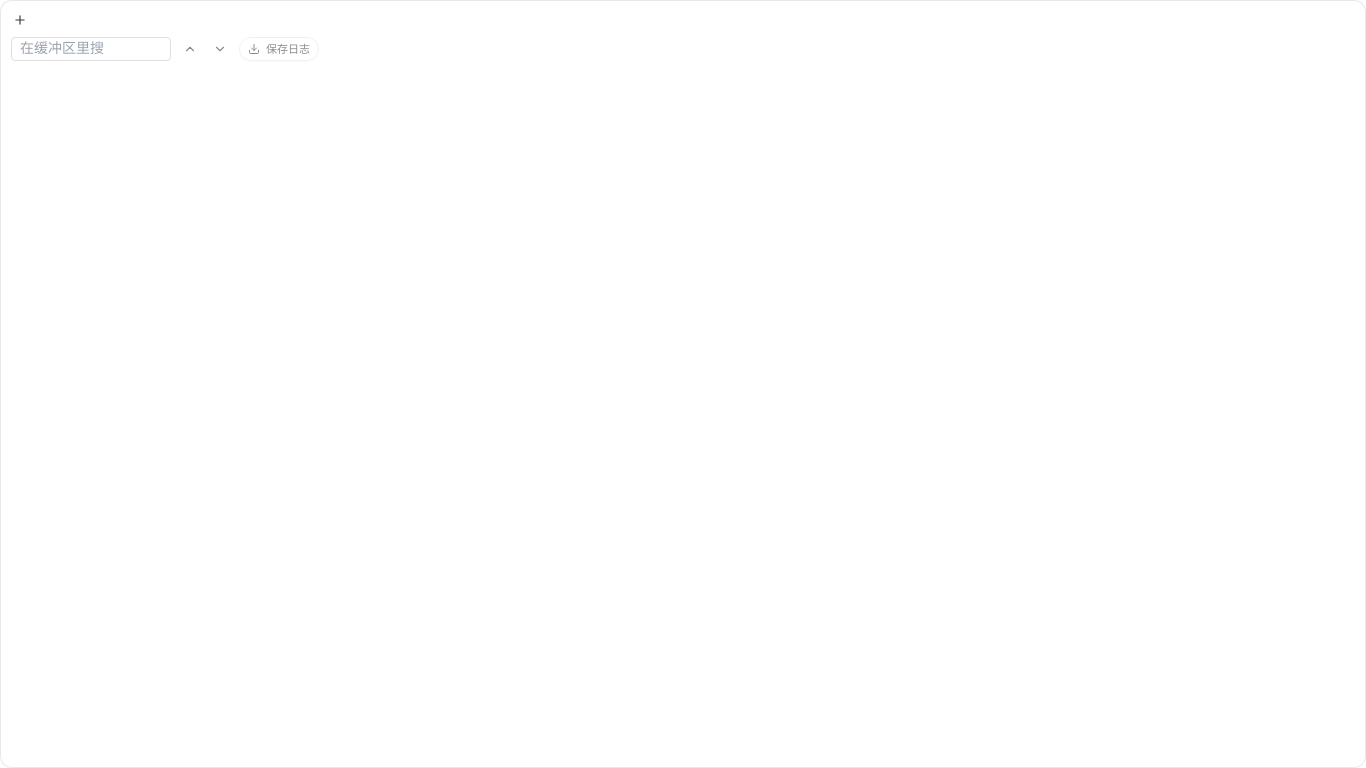
it: 真终端页（FT1 分页） › 保存这块屏：写出去的是纯文本，报的是回读到的字节数
Click the button with test id "terminal-new".
click(20, 20)  # box [11,11,29,29]
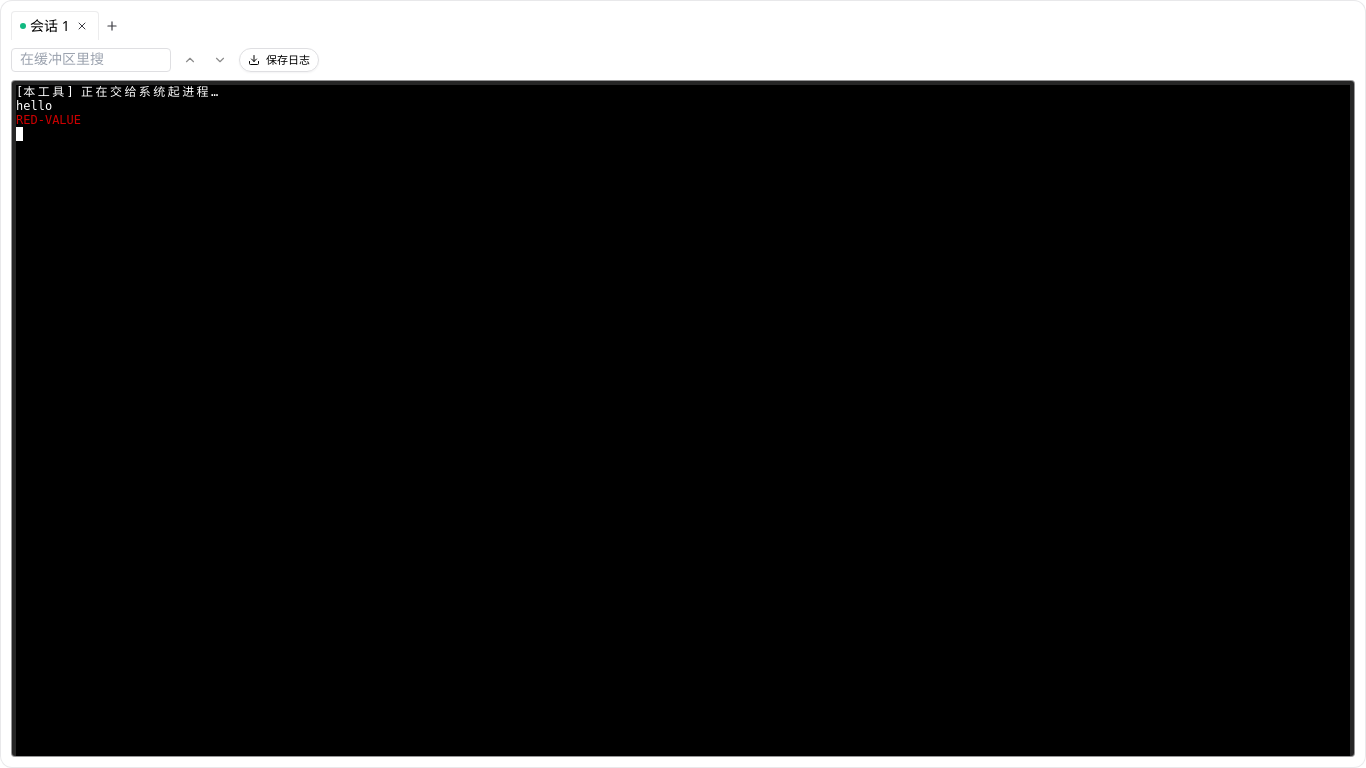
Click the button with test id "terminal-save".
click(279, 60)  # box [239,48,319,72]
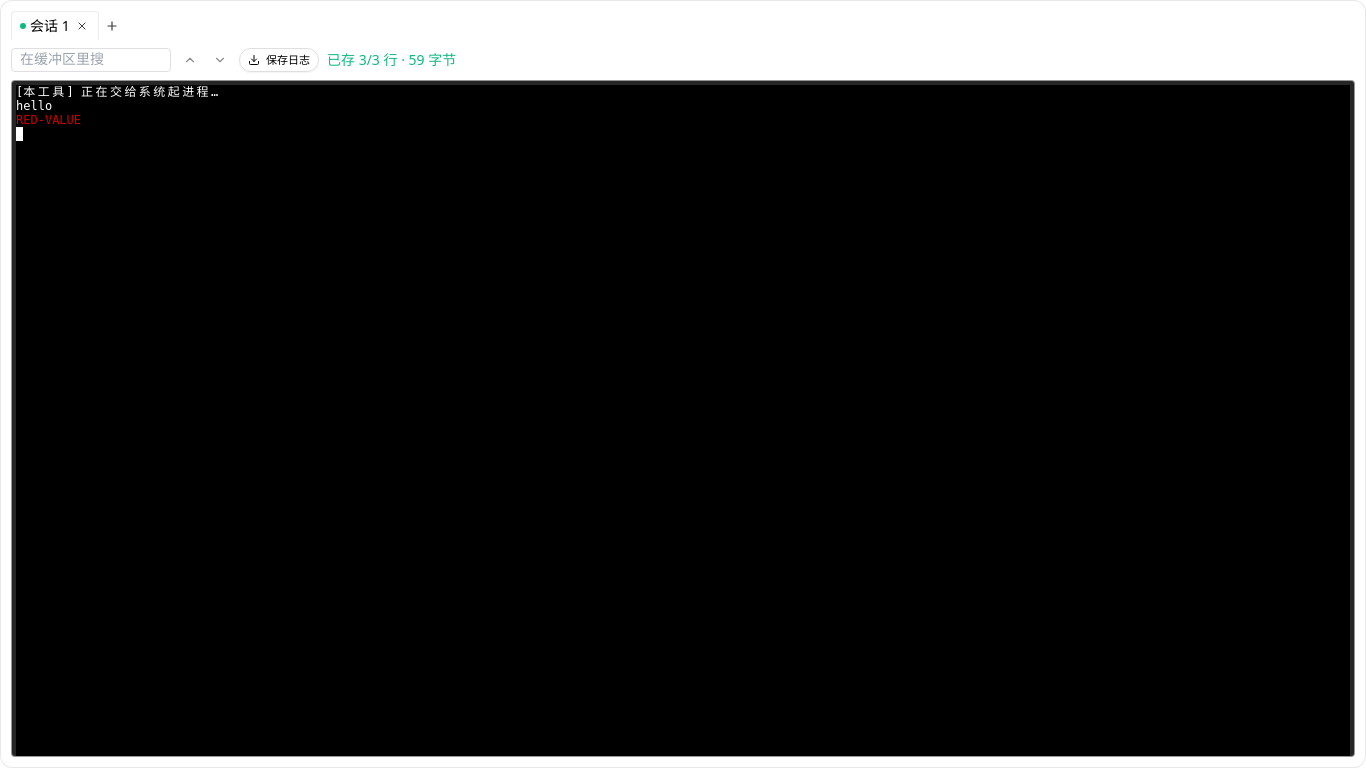
Result: the text with test id "terminal-save-outcome" shows "已存" at [327,50,456,69]
Result: the text with test id "terminal-save-outcome" shows "字节" at [327,50,456,69]
